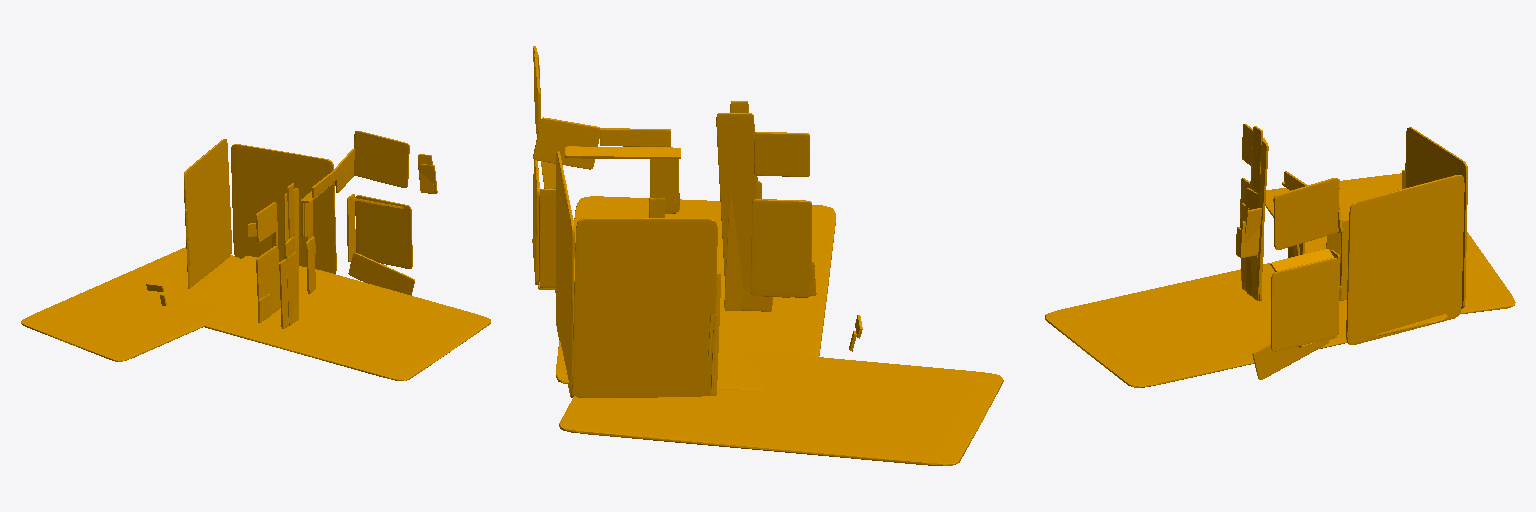
URDF robot description (scene):
<?xml version='1.0' encoding='utf-8'?>
<robot name="scene"><link name="scene_link"><visual><origin xyz="0.000000 0.000000 0.000000" rpy="0.000000 -0.000000 0.000000" /><geometry><mesh filename="part_000.obj" /></geometry></visual><collision><origin xyz="0.000000 0.000000 0.000000" rpy="0.000000 -0.000000 0.000000" /><geometry><mesh filename="part_000.obj" /></geometry></collision><visual><origin xyz="0.000000 0.000000 0.000000" rpy="0.000000 -0.000000 0.000000" /><geometry><mesh filename="part_001.obj" /></geometry></visual><collision><origin xyz="0.000000 0.000000 0.000000" rpy="0.000000 -0.000000 0.000000" /><geometry><mesh filename="part_001.obj" /></geometry></collision><visual><origin xyz="0.000000 0.000000 0.000000" rpy="0.000000 -0.000000 0.000000" /><geometry><mesh filename="part_002.obj" /></geometry></visual><collision><origin xyz="0.000000 0.000000 0.000000" rpy="0.000000 -0.000000 0.000000" /><geometry><mesh filename="part_002.obj" /></geometry></collision><visual><origin xyz="0.000000 0.000000 0.000000" rpy="0.000000 -0.000000 0.000000" /><geometry><mesh filename="part_003.obj" /></geometry></visual><collision><origin xyz="0.000000 0.000000 0.000000" rpy="0.000000 -0.000000 0.000000" /><geometry><mesh filename="part_003.obj" /></geometry></collision><visual><origin xyz="0.000000 0.000000 0.000000" rpy="0.000000 -0.000000 0.000000" /><geometry><mesh filename="part_004.obj" /></geometry></visual><collision><origin xyz="0.000000 0.000000 0.000000" rpy="0.000000 -0.000000 0.000000" /><geometry><mesh filename="part_004.obj" /></geometry></collision><visual><origin xyz="0.000000 0.000000 0.000000" rpy="0.000000 -0.000000 0.000000" /><geometry><mesh filename="part_005.obj" /></geometry></visual><collision><origin xyz="0.000000 0.000000 0.000000" rpy="0.000000 -0.000000 0.000000" /><geometry><mesh filename="part_005.obj" /></geometry></collision><visual><origin xyz="0.000000 0.000000 0.000000" rpy="0.000000 -0.000000 0.000000" /><geometry><mesh filename="part_006.obj" /></geometry></visual><collision><origin xyz="0.000000 0.000000 0.000000" rpy="0.000000 -0.000000 0.000000" /><geometry><mesh filename="part_006.obj" /></geometry></collision><visual><origin xyz="0.000000 0.000000 0.000000" rpy="0.000000 -0.000000 0.000000" /><geometry><mesh filename="part_007.obj" /></geometry></visual><collision><origin xyz="0.000000 0.000000 0.000000" rpy="0.000000 -0.000000 0.000000" /><geometry><mesh filename="part_007.obj" /></geometry></collision><visual><origin xyz="0.000000 0.000000 0.000000" rpy="0.000000 -0.000000 0.000000" /><geometry><mesh filename="part_008.obj" /></geometry></visual><collision><origin xyz="0.000000 0.000000 0.000000" rpy="0.000000 -0.000000 0.000000" /><geometry><mesh filename="part_008.obj" /></geometry></collision><visual><origin xyz="0.000000 0.000000 0.000000" rpy="0.000000 -0.000000 0.000000" /><geometry><mesh filename="part_009.obj" /></geometry></visual><collision><origin xyz="0.000000 0.000000 0.000000" rpy="0.000000 -0.000000 0.000000" /><geometry><mesh filename="part_009.obj" /></geometry></collision><visual><origin xyz="0.000000 0.000000 0.000000" rpy="0.000000 -0.000000 0.000000" /><geometry><mesh filename="part_010.obj" /></geometry></visual><collision><origin xyz="0.000000 0.000000 0.000000" rpy="0.000000 -0.000000 0.000000" /><geometry><mesh filename="part_010.obj" /></geometry></collision><visual><origin xyz="0.000000 0.000000 0.000000" rpy="0.000000 -0.000000 0.000000" /><geometry><mesh filename="part_011.obj" /></geometry></visual><collision><origin xyz="0.000000 0.000000 0.000000" rpy="0.000000 -0.000000 0.000000" /><geometry><mesh filename="part_011.obj" /></geometry></collision><visual><origin xyz="0.000000 0.000000 0.000000" rpy="0.000000 -0.000000 0.000000" /><geometry><mesh filename="part_012.obj" /></geometry></visual><collision><origin xyz="0.000000 0.000000 0.000000" rpy="0.000000 -0.000000 0.000000" /><geometry><mesh filename="part_012.obj" /></geometry></collision><visual><origin xyz="0.000000 0.000000 0.000000" rpy="0.000000 -0.000000 0.000000" /><geometry><mesh filename="part_013.obj" /></geometry></visual><collision><origin xyz="0.000000 0.000000 0.000000" rpy="0.000000 -0.000000 0.000000" /><geometry><mesh filename="part_013.obj" /></geometry></collision><visual><origin xyz="0.000000 0.000000 0.000000" rpy="0.000000 -0.000000 0.000000" /><geometry><mesh filename="part_014.obj" /></geometry></visual><collision><origin xyz="0.000000 0.000000 0.000000" rpy="0.000000 -0.000000 0.000000" /><geometry><mesh filename="part_014.obj" /></geometry></collision><visual><origin xyz="0.000000 0.000000 0.000000" rpy="0.000000 -0.000000 0.000000" /><geometry><mesh filename="part_015.obj" /></geometry></visual><collision><origin xyz="0.000000 0.000000 0.000000" rpy="0.000000 -0.000000 0.000000" /><geometry><mesh filename="part_015.obj" /></geometry></collision><visual><origin xyz="0.000000 0.000000 0.000000" rpy="0.000000 -0.000000 0.000000" /><geometry><mesh filename="part_016.obj" /></geometry></visual><collision><origin xyz="0.000000 0.000000 0.000000" rpy="0.000000 -0.000000 0.000000" /><geometry><mesh filename="part_016.obj" /></geometry></collision><visual><origin xyz="0.000000 0.000000 0.000000" rpy="0.000000 -0.000000 0.000000" /><geometry><mesh filename="part_017.obj" /></geometry></visual><collision><origin xyz="0.000000 0.000000 0.000000" rpy="0.000000 -0.000000 0.000000" /><geometry><mesh filename="part_017.obj" /></geometry></collision><visual><origin xyz="0.000000 0.000000 0.000000" rpy="0.000000 -0.000000 0.000000" /><geometry><mesh filename="part_018.obj" /></geometry></visual><collision><origin xyz="0.000000 0.000000 0.000000" rpy="0.000000 -0.000000 0.000000" /><geometry><mesh filename="part_018.obj" /></geometry></collision><visual><origin xyz="0.000000 0.000000 0.000000" rpy="0.000000 -0.000000 0.000000" /><geometry><mesh filename="part_019.obj" /></geometry></visual><collision><origin xyz="0.000000 0.000000 0.000000" rpy="0.000000 -0.000000 0.000000" /><geometry><mesh filename="part_019.obj" /></geometry></collision><visual><origin xyz="0.000000 0.000000 0.000000" rpy="0.000000 -0.000000 0.000000" /><geometry><mesh filename="part_020.obj" /></geometry></visual><collision><origin xyz="0.000000 0.000000 0.000000" rpy="0.000000 -0.000000 0.000000" /><geometry><mesh filename="part_020.obj" /></geometry></collision><visual><origin xyz="0.000000 0.000000 0.000000" rpy="0.000000 -0.000000 0.000000" /><geometry><mesh filename="part_021.obj" /></geometry></visual><collision><origin xyz="0.000000 0.000000 0.000000" rpy="0.000000 -0.000000 0.000000" /><geometry><mesh filename="part_021.obj" /></geometry></collision><visual><origin xyz="0.000000 0.000000 0.000000" rpy="0.000000 -0.000000 0.000000" /><geometry><mesh filename="part_022.obj" /></geometry></visual><collision><origin xyz="0.000000 0.000000 0.000000" rpy="0.000000 -0.000000 0.000000" /><geometry><mesh filename="part_022.obj" /></geometry></collision><visual><origin xyz="0.000000 0.000000 0.000000" rpy="0.000000 -0.000000 0.000000" /><geometry><mesh filename="part_023.obj" /></geometry></visual><collision><origin xyz="0.000000 0.000000 0.000000" rpy="0.000000 -0.000000 0.000000" /><geometry><mesh filename="part_023.obj" /></geometry></collision><visual><origin xyz="0.000000 0.000000 0.000000" rpy="0.000000 -0.000000 0.000000" /><geometry><mesh filename="part_024.obj" /></geometry></visual><collision><origin xyz="0.000000 0.000000 0.000000" rpy="0.000000 -0.000000 0.000000" /><geometry><mesh filename="part_024.obj" /></geometry></collision><visual><origin xyz="0.000000 0.000000 0.000000" rpy="0.000000 -0.000000 0.000000" /><geometry><mesh filename="part_025.obj" /></geometry></visual><collision><origin xyz="0.000000 0.000000 0.000000" rpy="0.000000 -0.000000 0.000000" /><geometry><mesh filename="part_025.obj" /></geometry></collision><visual><origin xyz="0.000000 0.000000 0.000000" rpy="0.000000 -0.000000 0.000000" /><geometry><mesh filename="part_026.obj" /></geometry></visual><collision><origin xyz="0.000000 0.000000 0.000000" rpy="0.000000 -0.000000 0.000000" /><geometry><mesh filename="part_026.obj" /></geometry></collision><visual><origin xyz="0.000000 0.000000 0.000000" rpy="0.000000 -0.000000 0.000000" /><geometry><mesh filename="part_027.obj" /></geometry></visual><collision><origin xyz="0.000000 0.000000 0.000000" rpy="0.000000 -0.000000 0.000000" /><geometry><mesh filename="part_027.obj" /></geometry></collision><visual><origin xyz="0.000000 0.000000 0.000000" rpy="0.000000 -0.000000 0.000000" /><geometry><mesh filename="part_028.obj" /></geometry></visual><collision><origin xyz="0.000000 0.000000 0.000000" rpy="0.000000 -0.000000 0.000000" /><geometry><mesh filename="part_028.obj" /></geometry></collision><visual><origin xyz="0.000000 0.000000 0.000000" rpy="0.000000 -0.000000 0.000000" /><geometry><mesh filename="part_029.obj" /></geometry></visual><collision><origin xyz="0.000000 0.000000 0.000000" rpy="0.000000 -0.000000 0.000000" /><geometry><mesh filename="part_029.obj" /></geometry></collision><visual><origin xyz="0.000000 0.000000 0.000000" rpy="0.000000 -0.000000 0.000000" /><geometry><mesh filename="part_030.obj" /></geometry></visual><collision><origin xyz="0.000000 0.000000 0.000000" rpy="0.000000 -0.000000 0.000000" /><geometry><mesh filename="part_030.obj" /></geometry></collision><visual><origin xyz="0.000000 0.000000 0.000000" rpy="0.000000 -0.000000 0.000000" /><geometry><mesh filename="part_031.obj" /></geometry></visual><collision><origin xyz="0.000000 0.000000 0.000000" rpy="0.000000 -0.000000 0.000000" /><geometry><mesh filename="part_031.obj" /></geometry></collision><visual><origin xyz="0.000000 0.000000 0.000000" rpy="0.000000 -0.000000 0.000000" /><geometry><mesh filename="part_032.obj" /></geometry></visual><collision><origin xyz="0.000000 0.000000 0.000000" rpy="0.000000 -0.000000 0.000000" /><geometry><mesh filename="part_032.obj" /></geometry></collision><visual><origin xyz="0.000000 0.000000 0.000000" rpy="0.000000 -0.000000 0.000000" /><geometry><mesh filename="part_033.obj" /></geometry></visual><collision><origin xyz="0.000000 0.000000 0.000000" rpy="0.000000 -0.000000 0.000000" /><geometry><mesh filename="part_033.obj" /></geometry></collision><visual><origin xyz="0.000000 0.000000 0.000000" rpy="0.000000 -0.000000 0.000000" /><geometry><mesh filename="part_034.obj" /></geometry></visual><collision><origin xyz="0.000000 0.000000 0.000000" rpy="0.000000 -0.000000 0.000000" /><geometry><mesh filename="part_034.obj" /></geometry></collision><visual><origin xyz="0.000000 0.000000 0.000000" rpy="0.000000 -0.000000 0.000000" /><geometry><mesh filename="part_035.obj" /></geometry></visual><collision><origin xyz="0.000000 0.000000 0.000000" rpy="0.000000 -0.000000 0.000000" /><geometry><mesh filename="part_035.obj" /></geometry></collision><visual><origin xyz="0.000000 0.000000 0.000000" rpy="0.000000 -0.000000 0.000000" /><geometry><mesh filename="part_036.obj" /></geometry></visual><collision><origin xyz="0.000000 0.000000 0.000000" rpy="0.000000 -0.000000 0.000000" /><geometry><mesh filename="part_036.obj" /></geometry></collision></link></robot>

--- Facts derived from the render (not from the file) ---
Views: 3 orthographic renders of the robot side by side, from view 1: azimuth 30°, elevation 25°; view 2: azimuth 150°, elevation 25°; view 3: azimuth 270°, elevation 25°.
Robot: scene — 1 links, 0 joints (none); root link scene_link; default pose: every joint at zero.
Visible links, largest first — view 1: scene_link; view 2: scene_link; view 3: scene_link.
Link boxes in pixels (box(x1,y1,x2,y2)): scene_link: box(21, 131, 490, 380); scene_link: box(532, 46, 1003, 465); scene_link: box(1045, 124, 1515, 387).
Bounding box of the posed robot: 7.92 × 7.35 × 3.27 m (x, y, z).
Meshes: 37 distinct files referenced, 37 mesh visuals loaded (37 OBJ).